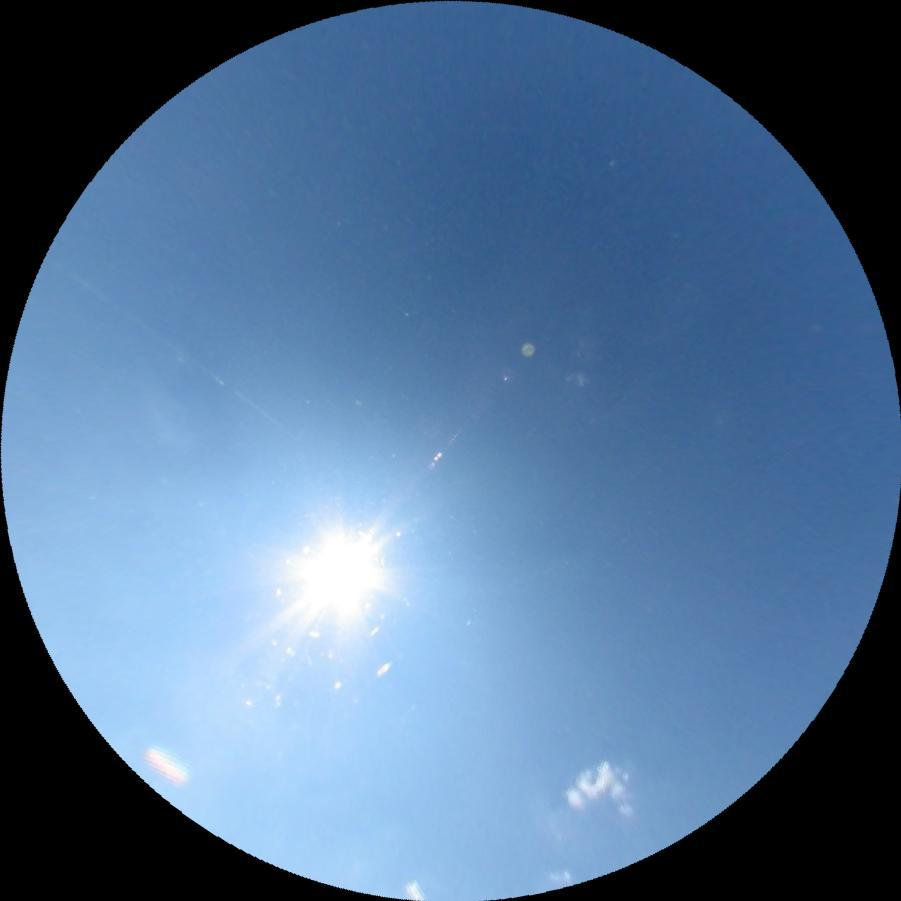parasite: (89, 285, 287, 432)
sun: (292, 524, 385, 620)
